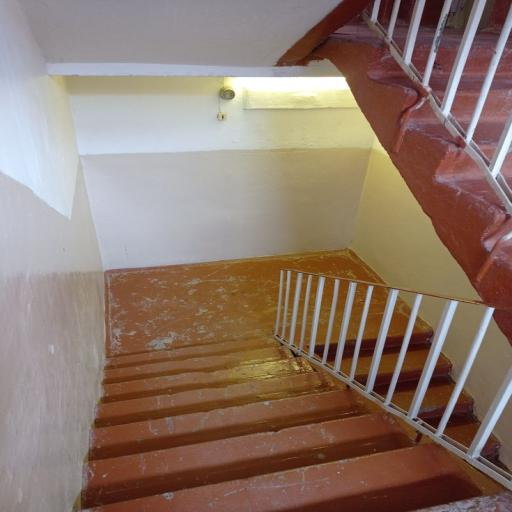laptop: (81, 251, 500, 512), (313, 24, 512, 338)
